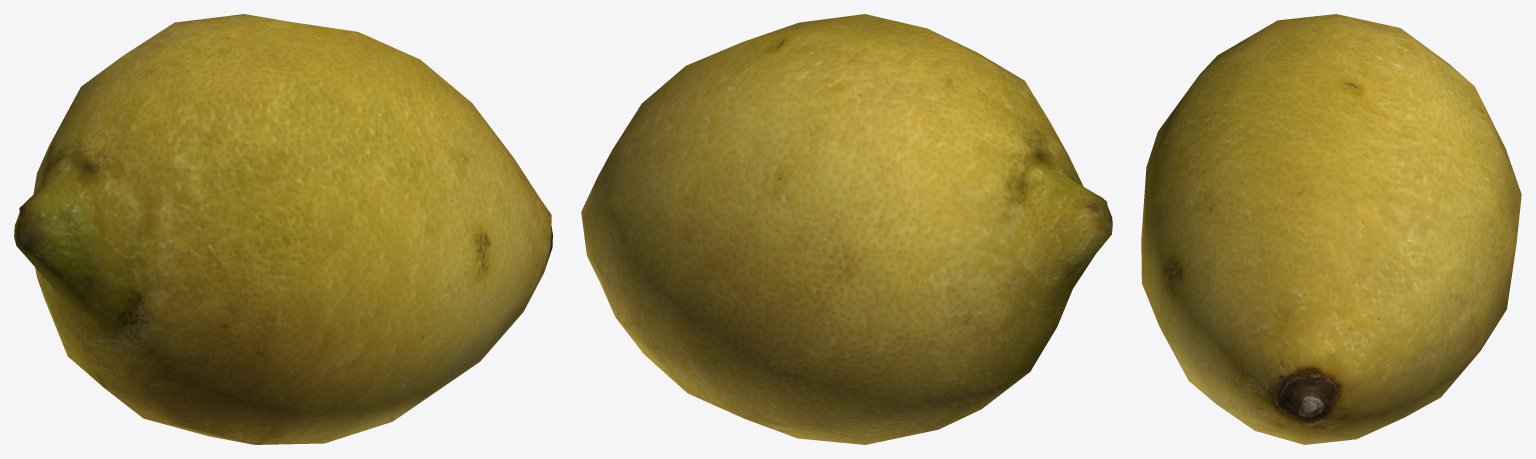
File: A71_Lemon_low.fbx
3 views of the same model, side by side, from view 1: azimuth 30°, elevation 25°; view 2: azimuth 150°, elevation 25°; view 3: azimuth 270°, elevation 25° (orthographic). The views are drawn at different scales.
Visible parts, largest first — view 1: A71_Lemon_low; view 2: A71_Lemon_low; view 3: A71_Lemon_low.
Boxes of the visible parts, left/top/right/bottom form: A71_Lemon_low: left=14, top=14, right=552, bottom=444; A71_Lemon_low: left=581, top=14, right=1112, bottom=444; A71_Lemon_low: left=1141, top=14, right=1521, bottom=444.
Size of the model in its own units: 7.58 by 5.24 by 5.44.
Materials: 1 (1 with a texture image).
